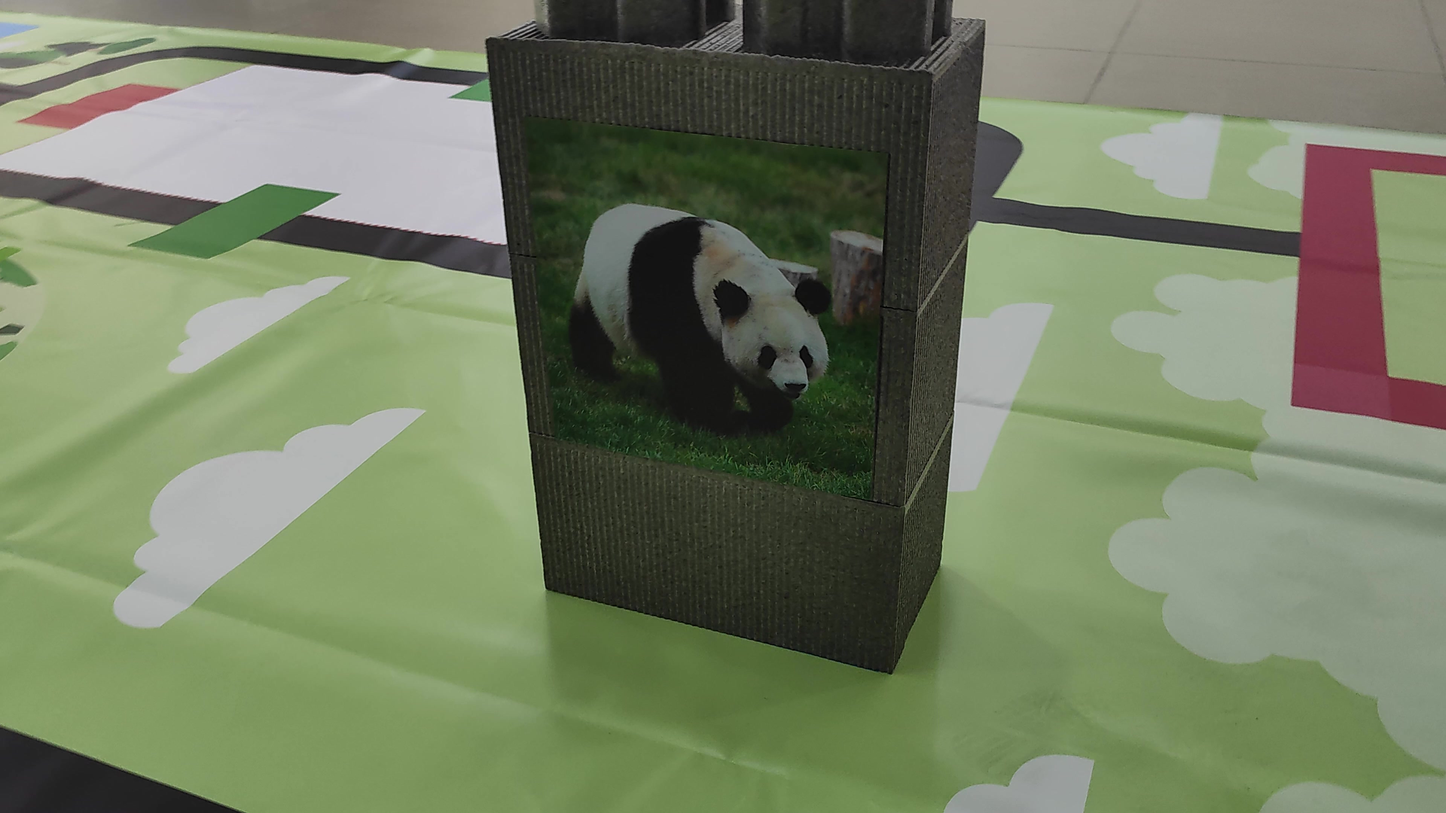panda: (532, 132, 861, 492)
